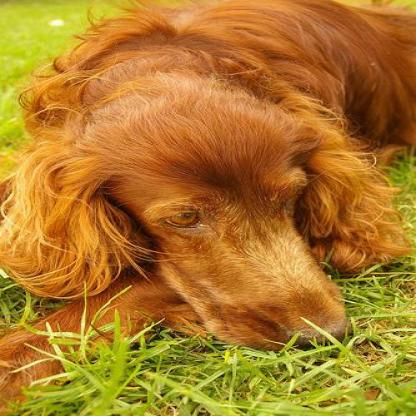Irish_setter: (1, 1, 413, 413)
